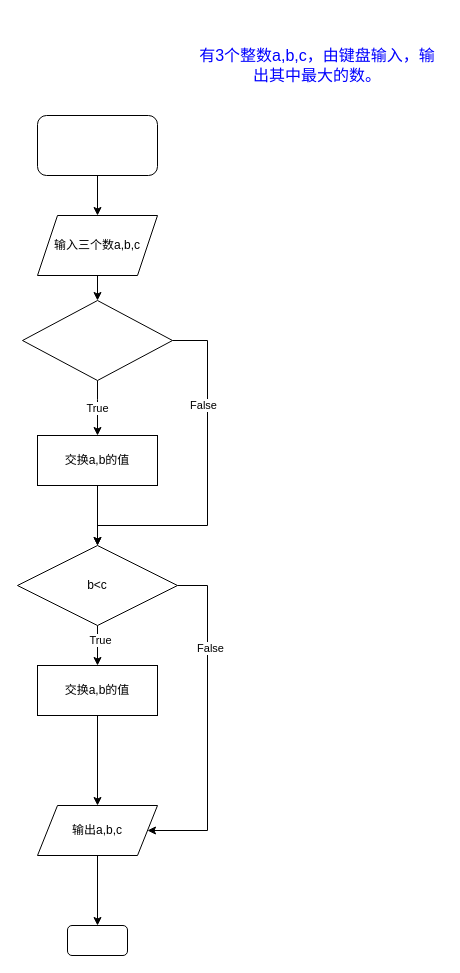
This 460x973 diagram has some shape labels left out. The shapes that lost their labels are listed below. From the top down, each one's centre as x and y in pixels, then its label:
At pixel 97 145: "开始".
At pixel 97 340: "a<b".
At pixel 97 940: "结束".
